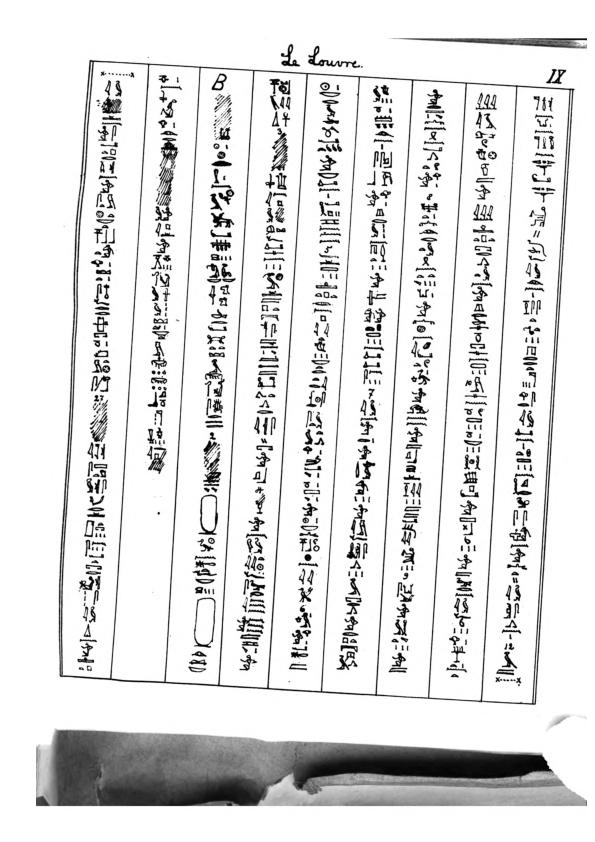circle: (192, 596, 216, 649), (198, 493, 219, 537)
